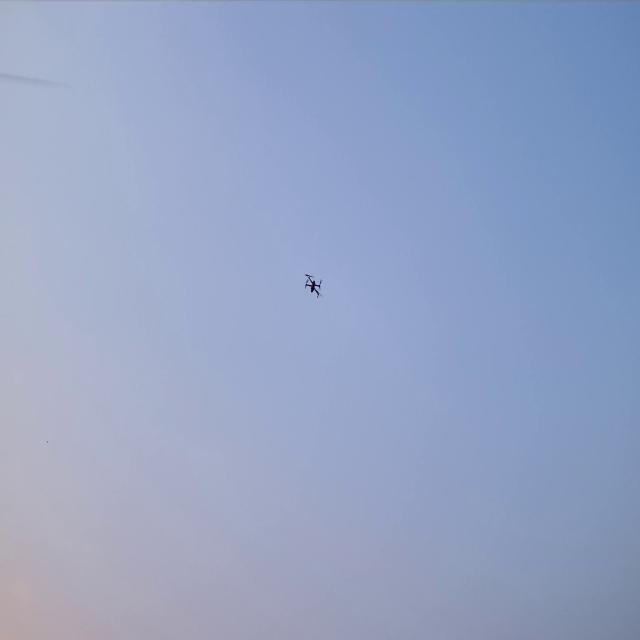UAV: (303, 271, 325, 301)
